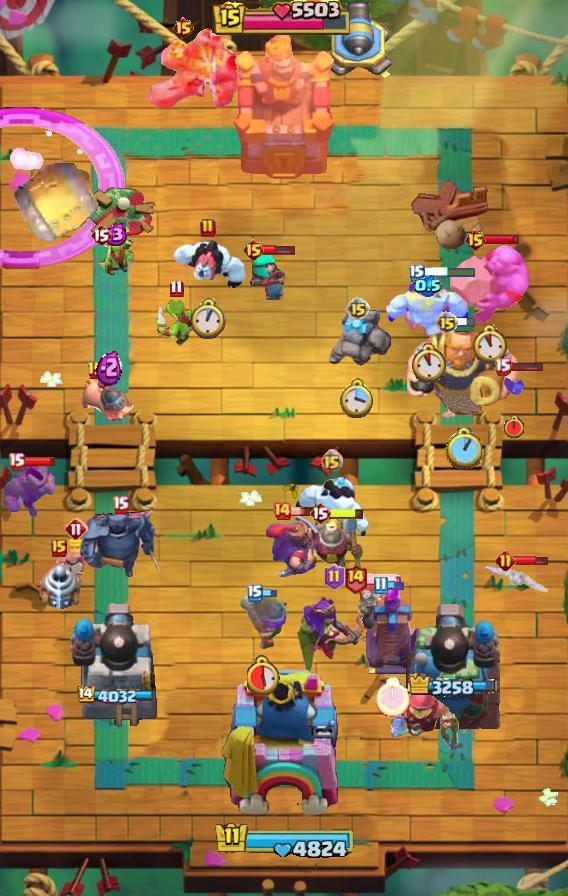archer: (53, 537, 99, 581)
archer-queen: (446, 242, 532, 326)
bandit: (301, 511, 367, 579)
barbarian: (485, 561, 551, 595)
barbarian-barrel: (502, 371, 526, 397)
barbarian-hut: (295, 595, 373, 681)
bomb-tower: (238, 592, 290, 652)
cannoneer-tower: (145, 26, 253, 110)
clock: (210, 820, 358, 862), (213, 0, 355, 38)
dirt: (11, 155, 101, 247)
electro-spirit: (96, 349, 122, 386), (100, 223, 127, 246), (414, 275, 442, 297)
elixir: (408, 343, 447, 385), (470, 324, 509, 365), (445, 427, 482, 469), (190, 298, 226, 340), (340, 376, 376, 418), (247, 655, 281, 695), (376, 677, 410, 717), (503, 415, 525, 439)
elixir-golem-big: (263, 513, 333, 579)
emote: (423, 265, 476, 278), (513, 553, 549, 567), (329, 508, 365, 521), (365, 573, 403, 585), (289, 505, 326, 517), (484, 234, 520, 246), (22, 456, 56, 468), (262, 244, 295, 256), (508, 360, 543, 371), (457, 316, 476, 328), (386, 581, 406, 592), (260, 587, 278, 599)
executioner: (82, 376, 136, 426)
fireball: (389, 688, 465, 752)
flying-machine: (0, 460, 60, 518)
giant-skeleton: (405, 321, 521, 421)
goblin-drill: (33, 562, 85, 618)
golemite: (75, 505, 165, 581)
ice-golem: (355, 575, 389, 631)
ice-spirit-evolution-symbol: (363, 584, 423, 676)
king-tower: (219, 670, 349, 826), (231, 35, 337, 182)
knight-evolution: (0, 106, 124, 269)
rage: (291, 468, 371, 550), (384, 273, 472, 341), (170, 239, 246, 295)
royal-recruit: (323, 0, 395, 84)
selected: (409, 672, 500, 700), (75, 686, 153, 706)
text: (344, 562, 369, 593), (346, 297, 370, 321), (435, 311, 459, 335), (64, 517, 88, 541), (173, 16, 196, 40), (464, 228, 487, 252), (242, 238, 265, 262), (320, 448, 343, 472), (323, 564, 344, 590), (90, 223, 112, 247), (309, 501, 331, 525), (495, 549, 517, 571), (272, 501, 292, 521), (87, 361, 105, 381), (493, 357, 511, 375), (7, 453, 25, 471), (200, 218, 216, 238), (112, 495, 129, 513), (409, 264, 425, 282), (51, 539, 67, 557), (247, 584, 263, 602), (169, 279, 183, 298), (373, 577, 387, 595)
tower-bar: (403, 601, 503, 731), (69, 599, 159, 731)
valkyrie-evolution: (325, 310, 391, 372)
witch: (247, 253, 287, 301)
zap: (155, 299, 197, 347), (94, 235, 134, 277)
